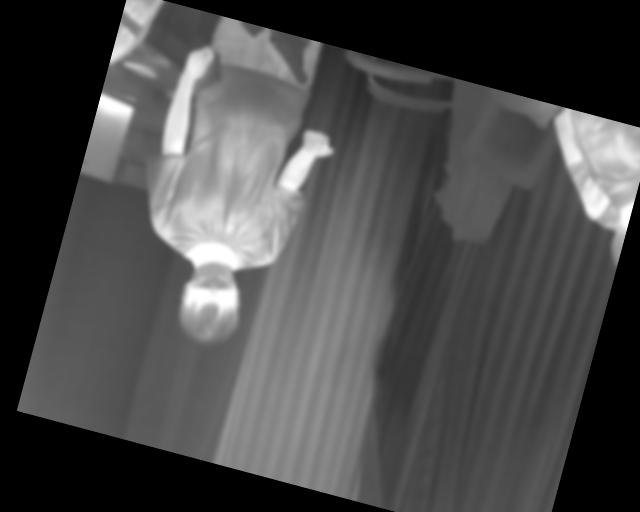face: (170, 253, 252, 351)
